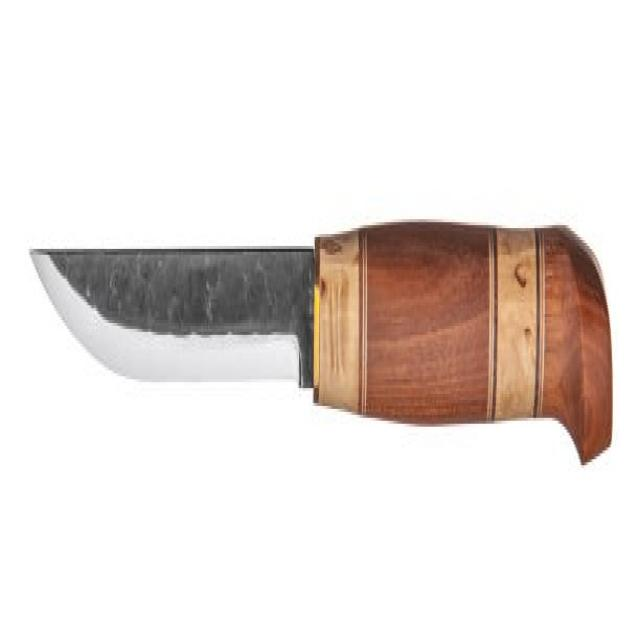knife: (26, 211, 615, 493)
